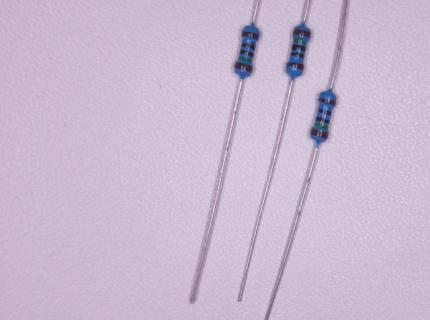Black band: (315, 116, 330, 124), (241, 43, 255, 51), (240, 50, 254, 58), (292, 44, 306, 52), (318, 108, 332, 115), (290, 52, 305, 58)
Brown band: (235, 61, 253, 73), (310, 128, 329, 139), (241, 30, 259, 41), (293, 29, 311, 38), (318, 97, 336, 106), (286, 62, 304, 70)
Green band: (314, 123, 328, 130), (238, 56, 252, 63), (294, 38, 307, 45)
